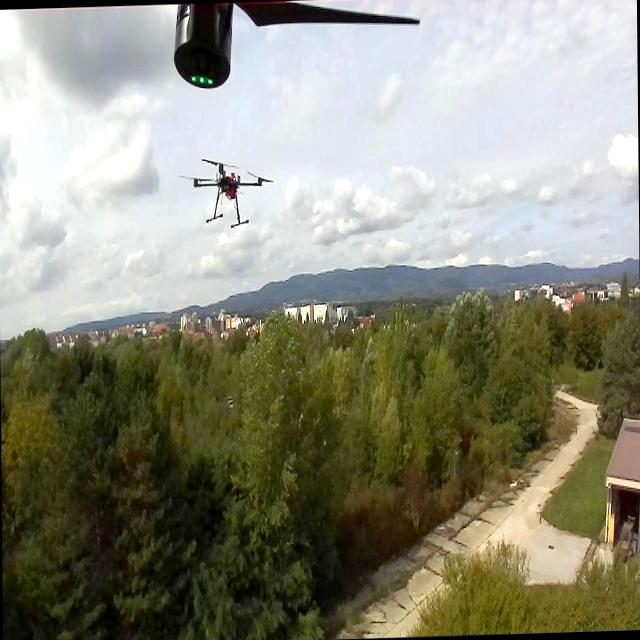drone: (189, 152, 273, 232)
